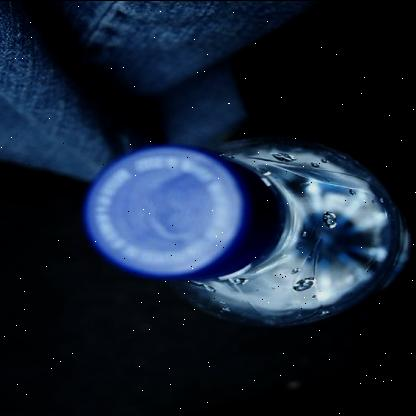Plastic Bottle: (82, 136, 412, 326)
